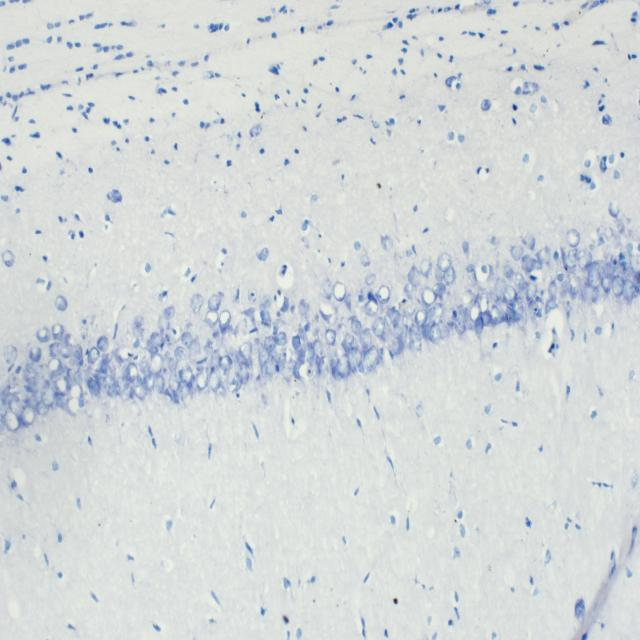neuron: (474, 263, 494, 292), (579, 278, 598, 304), (318, 301, 338, 325), (346, 346, 362, 373), (518, 226, 536, 250), (363, 346, 379, 371), (452, 308, 467, 334), (40, 386, 56, 408), (174, 380, 190, 402), (4, 410, 20, 431), (428, 303, 444, 323), (421, 286, 437, 306), (21, 405, 36, 426), (149, 353, 164, 374), (336, 358, 351, 379), (281, 355, 293, 381), (316, 354, 329, 378), (622, 278, 635, 302), (428, 323, 442, 345), (436, 252, 452, 271), (86, 377, 101, 397), (178, 366, 193, 386), (188, 338, 200, 363), (219, 309, 231, 334), (578, 248, 593, 268), (132, 315, 145, 338), (568, 271, 581, 294), (9, 398, 25, 416), (196, 368, 208, 392), (209, 368, 221, 392), (392, 324, 408, 342), (237, 361, 250, 383), (66, 396, 81, 415), (333, 282, 347, 302), (372, 316, 386, 336), (587, 268, 601, 288), (515, 306, 527, 329), (239, 341, 252, 362), (359, 328, 372, 349), (54, 376, 69, 394), (536, 247, 551, 265), (341, 333, 355, 352), (566, 228, 580, 247), (191, 292, 203, 314), (612, 275, 624, 297), (4, 344, 17, 364), (387, 308, 400, 328), (35, 327, 51, 343), (66, 368, 80, 386), (364, 298, 378, 316), (404, 282, 418, 300), (494, 278, 506, 299), (29, 344, 42, 363), (377, 285, 390, 304), (525, 282, 538, 301), (210, 350, 221, 372), (322, 278, 333, 300), (488, 304, 499, 326), (629, 254, 640, 276), (115, 346, 131, 361), (218, 354, 233, 370), (258, 347, 270, 367), (437, 319, 449, 339), (470, 303, 482, 323), (512, 296, 524, 316), (208, 293, 221, 311), (415, 308, 428, 326), (419, 258, 432, 276), (478, 292, 489, 313), (204, 343, 214, 366), (474, 316, 484, 339), (120, 383, 132, 402), (504, 307, 516, 326), (69, 382, 83, 398), (150, 332, 164, 348), (204, 310, 218, 326), (157, 315, 170, 332), (408, 268, 421, 285), (260, 306, 271, 326), (619, 252, 630, 272), (56, 391, 68, 409), (182, 330, 194, 348), (264, 335, 276, 353), (444, 266, 456, 284), (504, 286, 516, 304), (521, 254, 533, 272), (48, 358, 62, 373), (270, 348, 284, 363), (127, 362, 138, 381), (36, 398, 49, 414), (67, 359, 80, 375), (49, 341, 62, 357), (87, 347, 100, 363), (133, 383, 146, 399), (495, 298, 508, 314), (511, 245, 524, 261), (545, 298, 558, 314), (52, 323, 64, 340), (103, 374, 115, 391), (312, 339, 324, 356), (325, 329, 337, 346), (140, 356, 150, 376), (188, 374, 198, 394), (293, 358, 303, 378), (337, 322, 347, 342), (107, 381, 120, 396), (13, 390, 29, 402), (96, 358, 108, 374), (568, 248, 580, 264), (155, 376, 165, 395), (351, 319, 362, 336), (410, 324, 421, 341), (26, 376, 40, 389), (55, 296, 68, 310), (163, 305, 176, 319), (274, 332, 287, 346), (529, 258, 543, 271), (0, 376, 10, 394), (41, 364, 51, 382), (62, 343, 74, 358), (82, 353, 92, 371), (116, 377, 126, 395), (145, 372, 155, 390), (601, 274, 611, 292), (97, 336, 108, 352), (168, 377, 179, 393), (265, 360, 276, 376), (609, 202, 620, 218), (548, 281, 557, 300), (167, 356, 177, 373), (481, 310, 491, 327), (174, 346, 187, 359), (146, 340, 158, 354), (560, 247, 568, 268), (364, 272, 376, 285), (433, 284, 446, 296), (261, 294, 272, 308), (307, 343, 315, 362), (6, 374, 16, 389), (72, 344, 82, 359), (137, 369, 146, 385), (165, 333, 174, 349), (392, 337, 400, 355), (94, 373, 105, 386), (503, 265, 514, 278), (32, 389, 42, 403), (291, 334, 301, 348), (299, 300, 309, 314), (616, 222, 626, 236), (80, 324, 88, 341), (332, 366, 341, 381), (60, 334, 71, 346), (528, 302, 539, 314), (422, 324, 430, 340), (604, 226, 613, 240), (25, 363, 36, 374), (28, 396, 38, 408), (102, 352, 112, 364), (221, 373, 228, 390), (407, 302, 416, 315), (596, 225, 605, 238), (298, 326, 306, 340), (361, 254, 370, 266), (272, 320, 279, 335), (625, 242, 634, 253), (604, 245, 610, 260), (436, 269, 442, 282), (553, 250, 559, 262), (606, 252, 612, 264), (598, 236, 604, 247), (557, 273, 564, 282), (164, 351, 170, 361)
